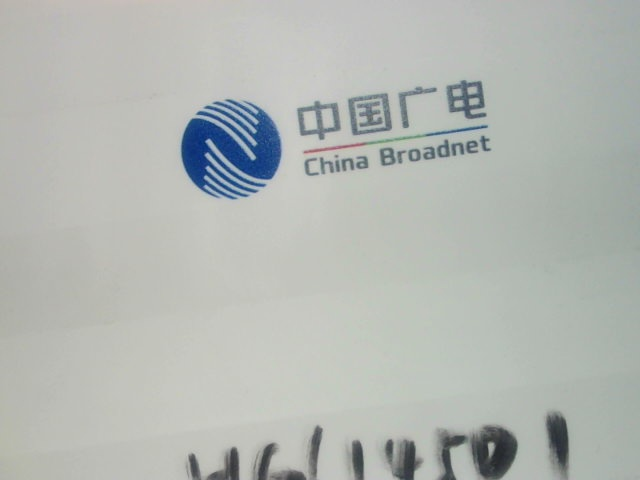AW_ChinaBroadNet: (169, 78, 498, 202)
